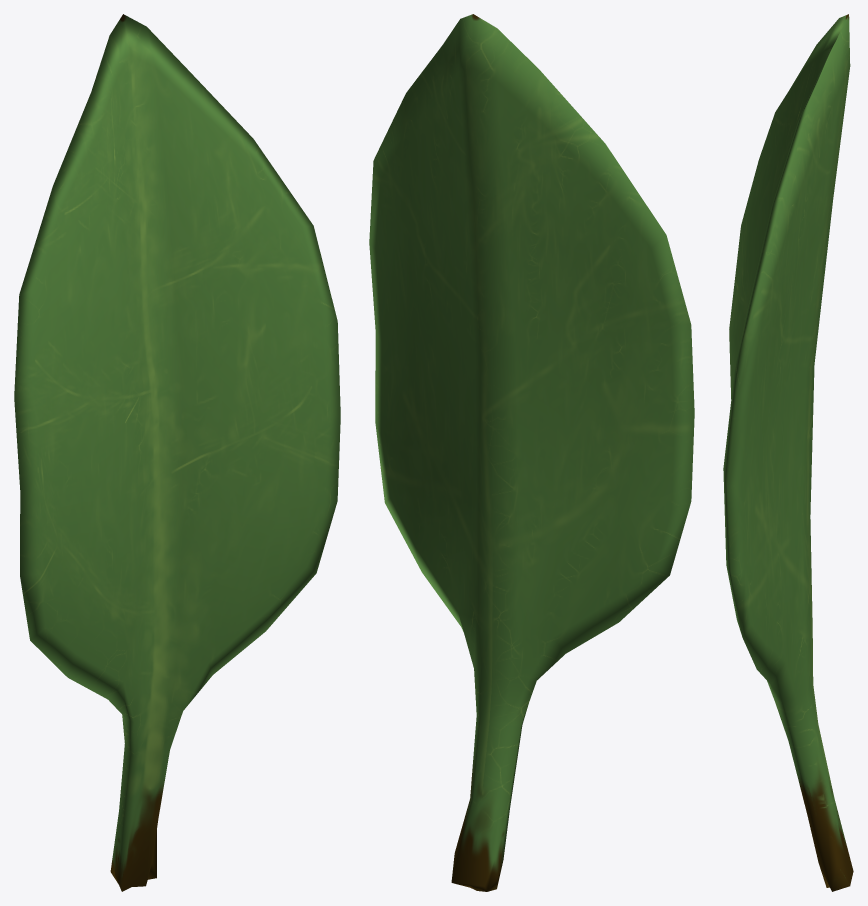
The model's file is Tealeaf_Base.fbx.
3 renders of one model, left to right at view 1: azimuth 30°, elevation 25°; view 2: azimuth 150°, elevation 25°; view 3: azimuth 270°, elevation 25°, orthographic.
Parts seen in each view (by area): view 1: Tealeaf; view 2: Tealeaf; view 3: Tealeaf.
Boxes of the visible parts, x1,y1,x2,y2 form: Tealeaf: [14, 14, 340, 891]; Tealeaf: [369, 14, 694, 891]; Tealeaf: [723, 14, 853, 891].
Bounding box in the file's own units: 4.27 × 11.05 × 1.5.
